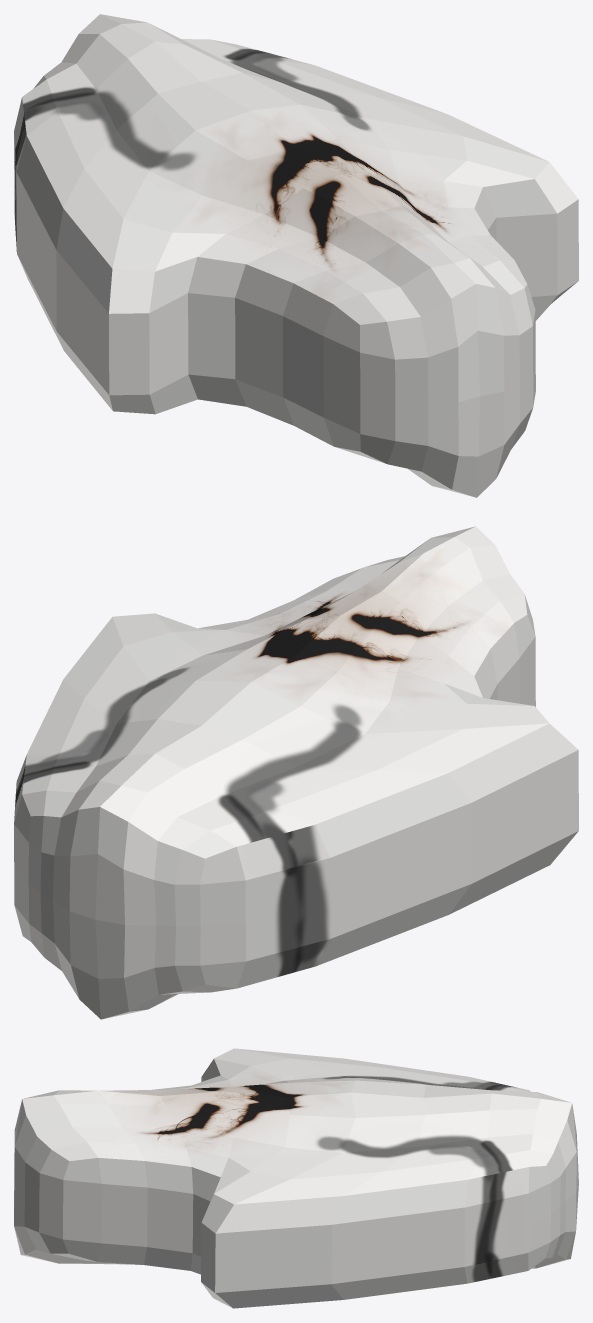
File: Player.fbx
The picture shows the model from 3 angles, top to bottom: view 1: azimuth 30°, elevation 25°; view 2: azimuth 150°, elevation 25°; view 3: azimuth 270°, elevation 25°; orthographic projection. The views are drawn at different scales.
Parts seen in each view (by area): view 1: Cube; view 2: Cube; view 3: Cube.
Part boxes in pixels (x1,y1,x2,y2): Cube: (14,14,578,497); Cube: (14,526,578,1019); Cube: (14,1048,578,1308).
Bounding box in the file's own units: 2.85 × 1.4 × 4.06.
